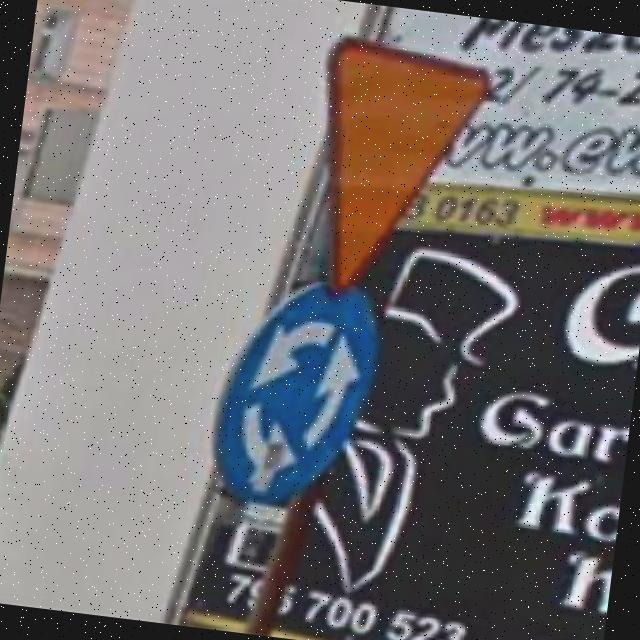Ustap pierwszenstwa: (296, 29, 496, 308)
